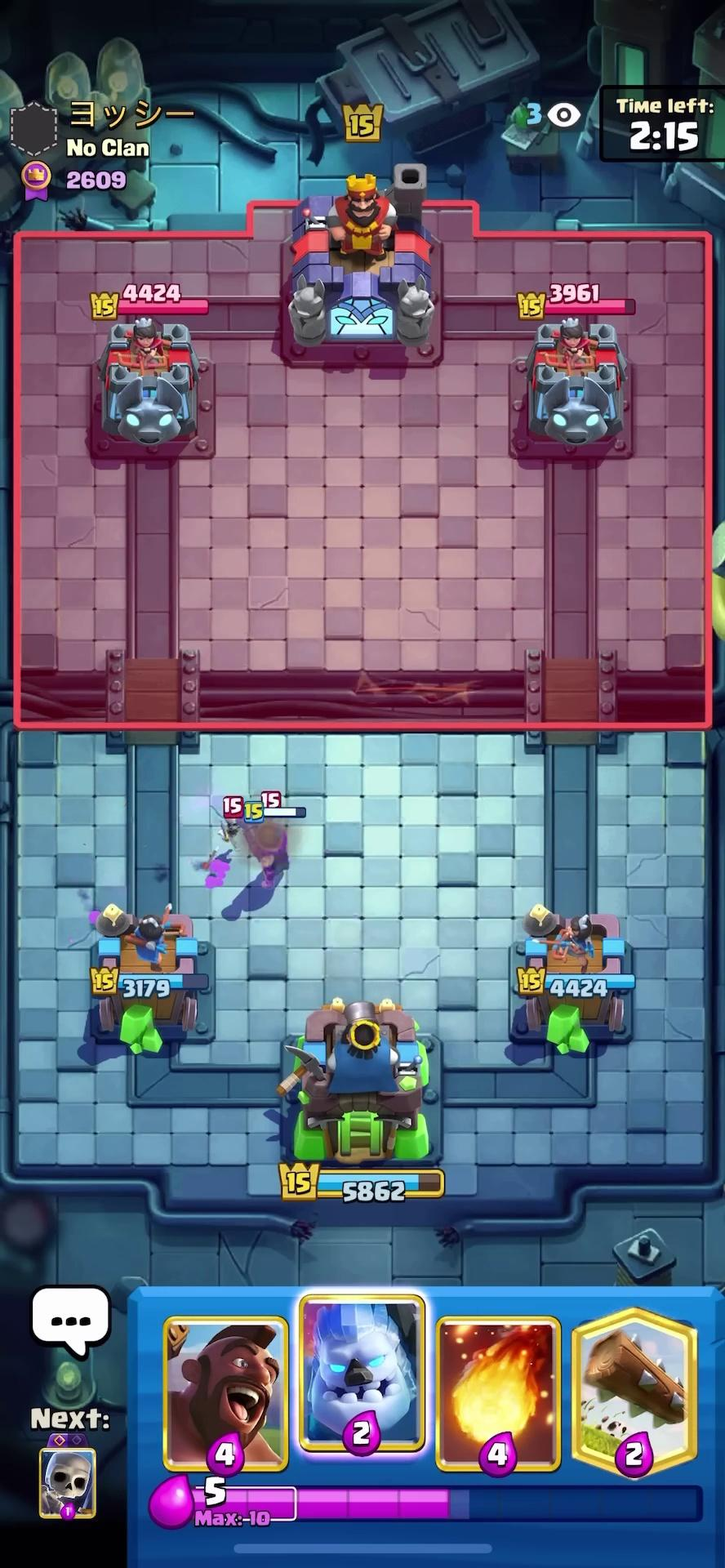musketeer: (243, 800, 306, 882)
